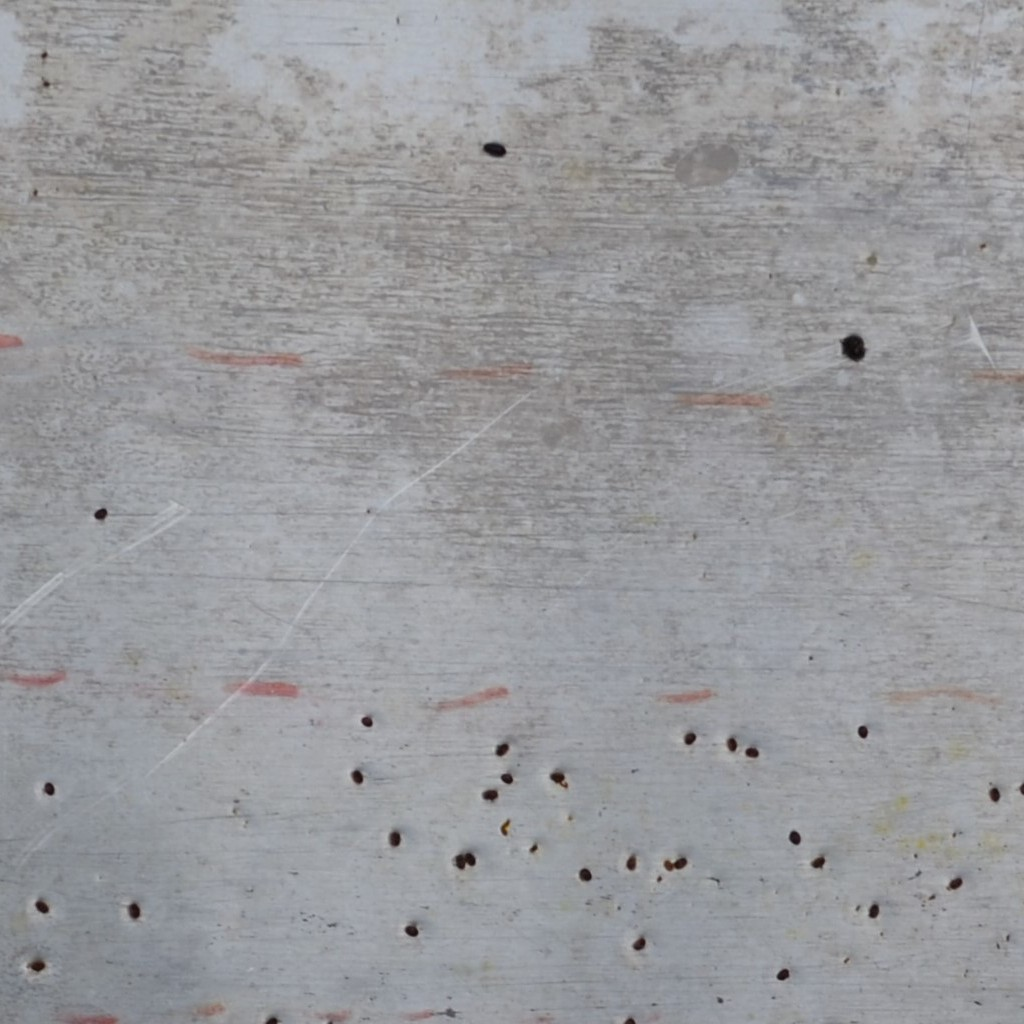varroa: (481, 136, 509, 159), (838, 330, 865, 352), (33, 894, 51, 917), (842, 347, 866, 364), (125, 899, 143, 921), (786, 826, 804, 846), (27, 956, 47, 973), (946, 874, 964, 892), (810, 851, 827, 870), (494, 741, 511, 760), (986, 784, 1002, 804), (482, 786, 500, 803), (625, 850, 639, 871), (744, 743, 761, 760), (93, 505, 110, 522), (662, 857, 677, 876), (631, 932, 646, 951), (388, 827, 402, 847), (549, 768, 565, 785), (465, 848, 477, 870), (350, 769, 365, 786), (725, 736, 739, 754), (453, 851, 467, 869), (404, 922, 418, 940), (499, 770, 514, 786), (42, 778, 55, 796), (775, 966, 790, 981), (578, 867, 593, 882), (683, 730, 697, 746), (867, 901, 880, 918), (674, 855, 688, 870), (857, 723, 869, 739), (361, 714, 373, 729), (621, 1015, 637, 1023), (1017, 779, 1023, 798)
